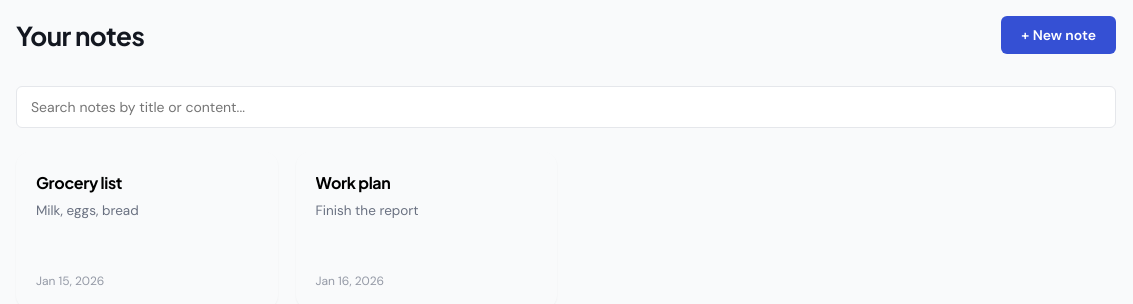
Test case: Dashboard › filters notes by content as well as title
The image size is (1133, 304).
Check: the heading "Grocery list" is shown, box [36, 172, 122, 193]
In the field labelled "Search notes": [566, 107] box [16, 86, 1116, 128], type "report"
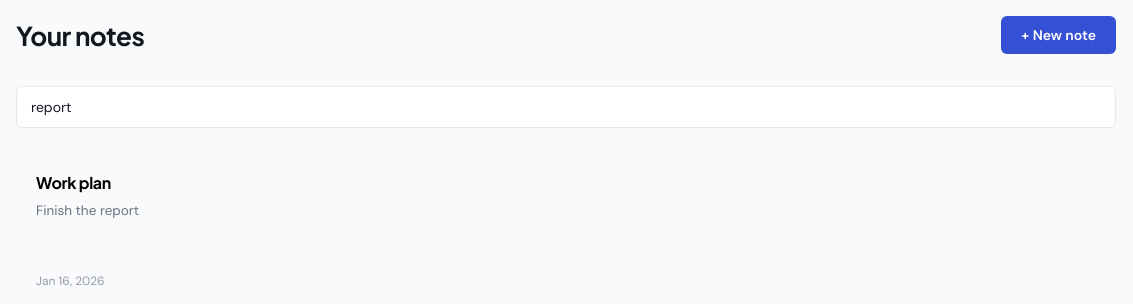
Check: the heading "Work plan" is shown, box [36, 172, 111, 193]
Check: the button "Grocery list" is gone
